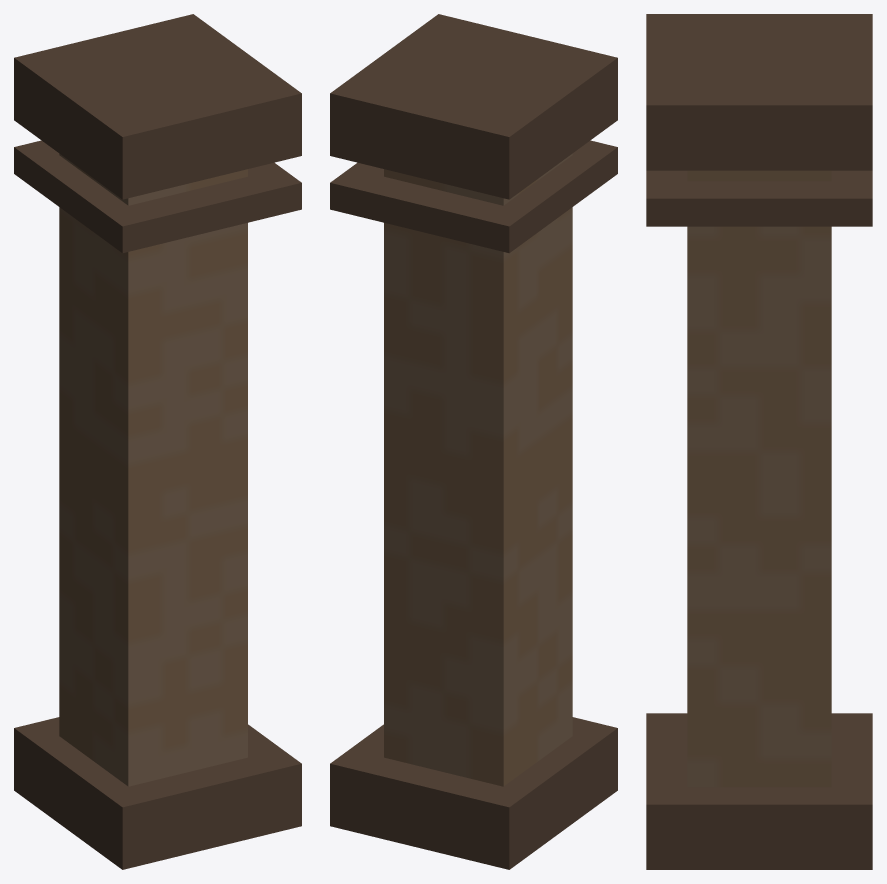
File: COLUMNA2.fbx
3 renders of one model, left to right at view 1: azimuth 30°, elevation 25°; view 2: azimuth 150°, elevation 25°; view 3: azimuth 270°, elevation 25°, orthographic. The views are drawn at different scales.
Parts seen in each view (by area): view 1: Columna_2:Mesh; view 2: Columna_2:Mesh; view 3: Columna_2:Mesh.
Part boxes in pixels (x1,y1,x2,y2): Columna_2:Mesh: [14, 14, 301, 869]; Columna_2:Mesh: [330, 14, 617, 869]; Columna_2:Mesh: [646, 14, 872, 869].
Bounding box in the file's own units: 2.1 × 8.2 × 2.2.
